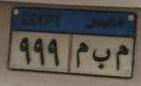9: (47, 38, 61, 66), (33, 38, 45, 65), (20, 36, 30, 64)
baa: (92, 44, 110, 69)
meem: (111, 43, 131, 72), (74, 41, 89, 69)
